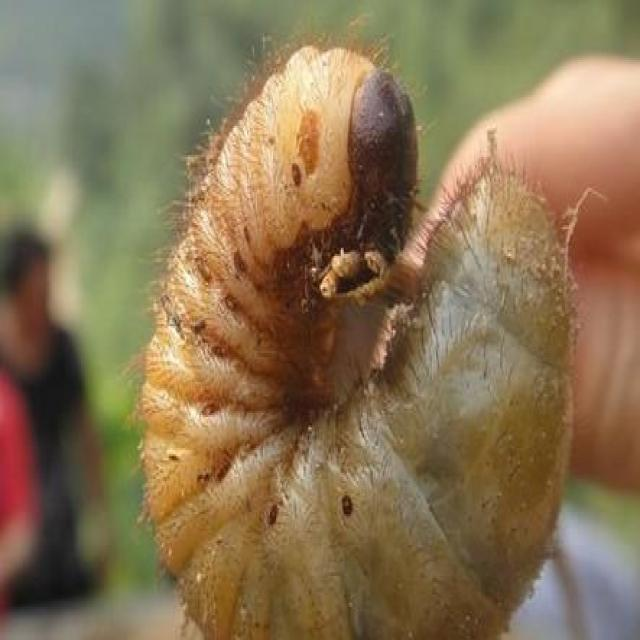grub: (135, 34, 581, 637)
